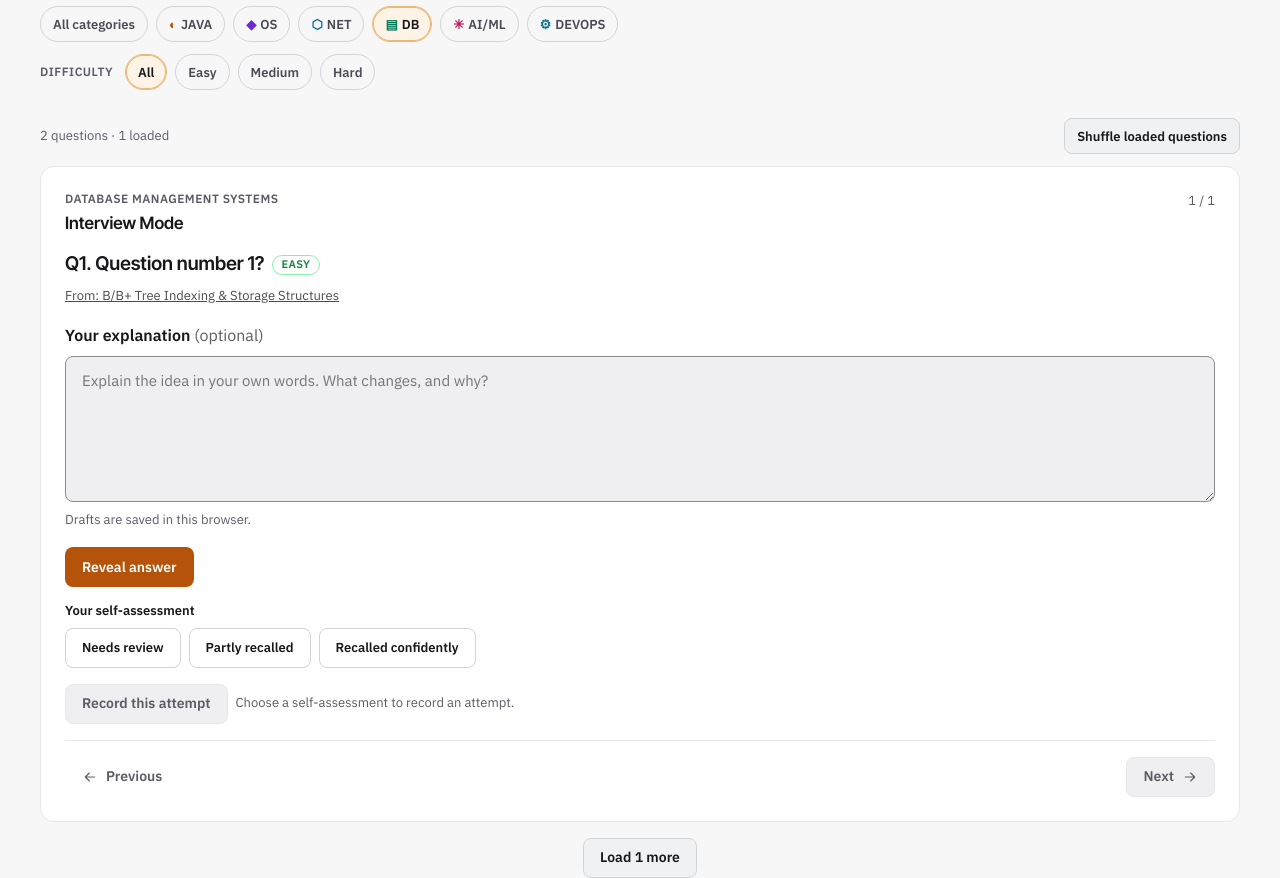
it: InterviewPage › does not append a stale page after the difficulty changes
The width and height of the screenshot is (1280, 878).
(page scrolled)
Expected: the text "1 / 1" is shown, [1188,191,1215,212]
Click the button "Load 1 more". click: {"x": 640, "y": 858}
box: [583,838,697,877]
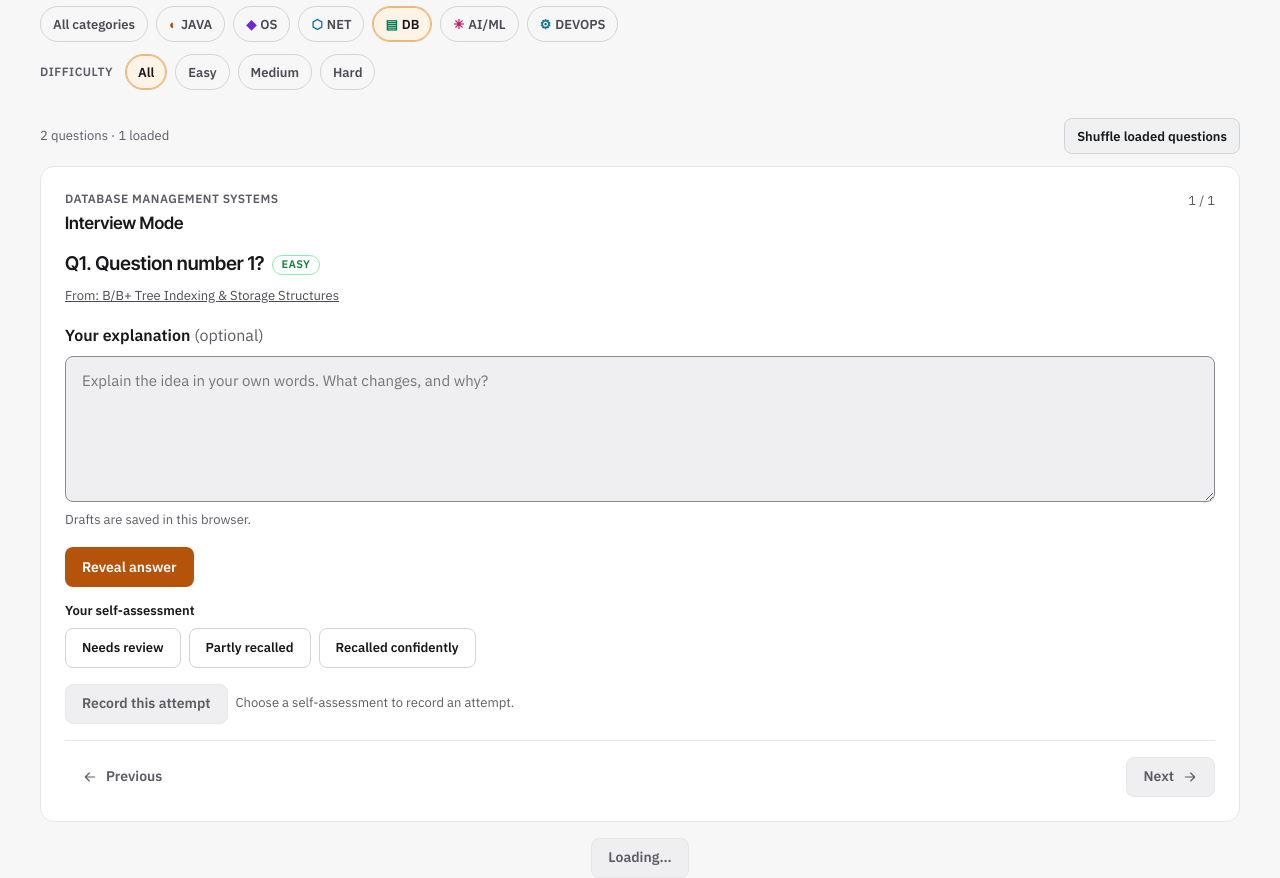
Click the button "Hard". click: {"x": 348, "y": 72}
box: [320,54,376,90]
(page scrolled)
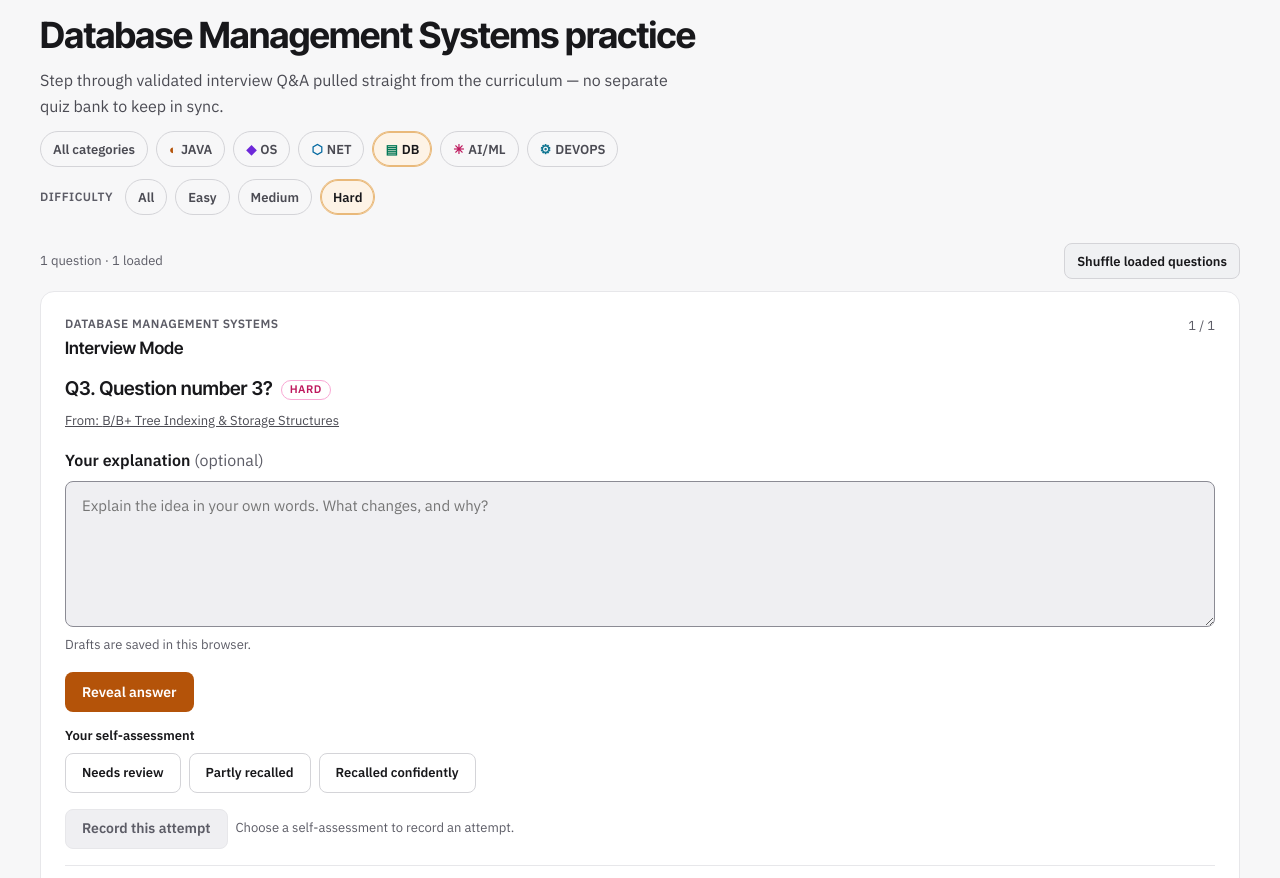
Expected: the text "Q3. Question number 3? hard" is shown, [65,377,331,400]
